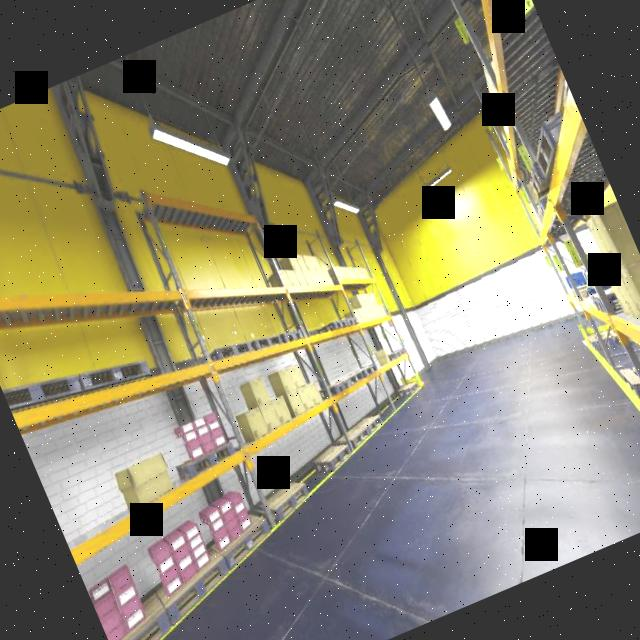box: (580, 200, 640, 323), (108, 446, 178, 513), (276, 362, 306, 393), (243, 406, 269, 440), (296, 381, 323, 409), (248, 376, 271, 406), (258, 400, 281, 430), (270, 394, 292, 424), (286, 390, 305, 416), (303, 252, 321, 272), (357, 290, 377, 308), (333, 263, 349, 281), (278, 269, 292, 288), (287, 252, 300, 272), (295, 254, 308, 272), (286, 268, 299, 286), (354, 265, 369, 280), (345, 264, 359, 280), (374, 304, 387, 319), (367, 306, 379, 321), (359, 307, 371, 322), (295, 270, 306, 286)
